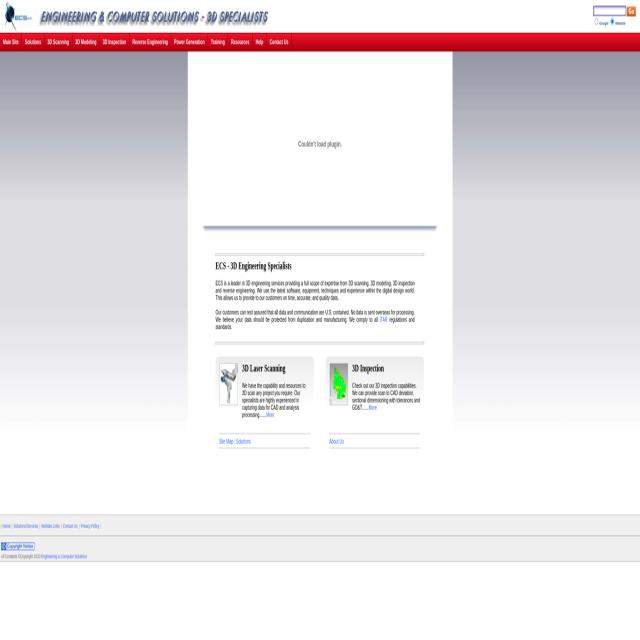button: (0, 0, 276, 33), (220, 363, 238, 405), (330, 363, 348, 405), (129, 33, 171, 51), (171, 33, 207, 51), (100, 33, 129, 51), (44, 33, 72, 51), (72, 33, 100, 51), (228, 33, 252, 51), (267, 33, 291, 51), (0, 33, 22, 51), (22, 33, 44, 51), (208, 33, 228, 51), (2, 542, 34, 551), (253, 33, 266, 51), (627, 6, 635, 16)
field: (595, 5, 625, 17), (594, 18, 598, 25), (611, 18, 614, 25)
